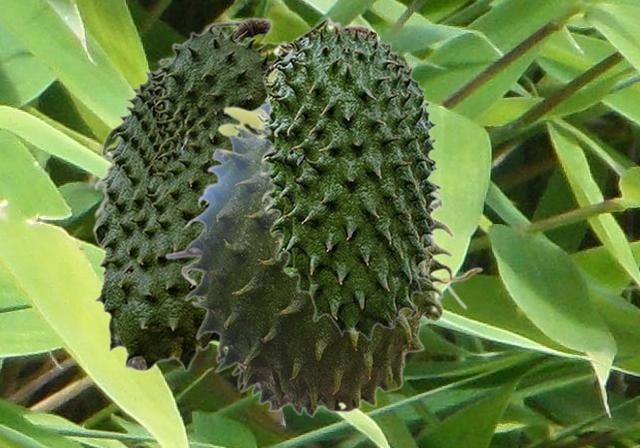guyabano: (164, 102, 483, 418), (91, 16, 280, 372), (257, 15, 442, 340)
